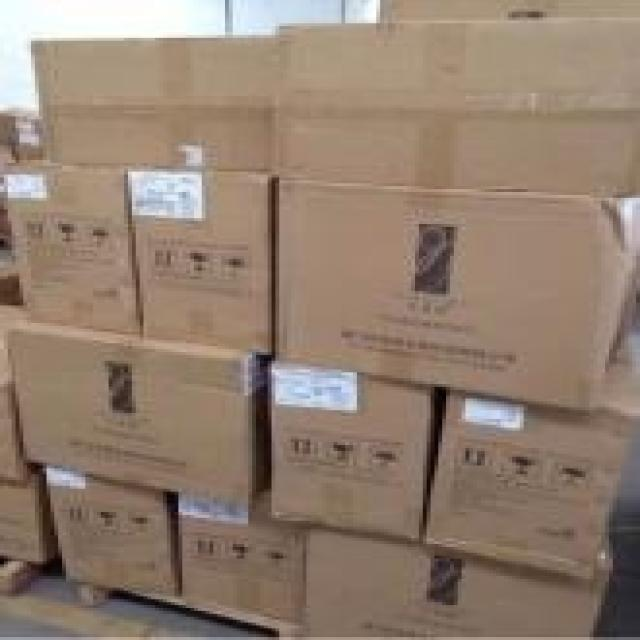box: (275, 180, 640, 410), (275, 20, 640, 198), (427, 329, 640, 582), (16, 326, 268, 509), (299, 529, 613, 640), (31, 35, 279, 169), (272, 361, 434, 541), (128, 172, 272, 358), (4, 166, 140, 335), (178, 489, 306, 623), (47, 465, 175, 596), (376, 0, 640, 23), (0, 477, 58, 561), (0, 300, 19, 480)
